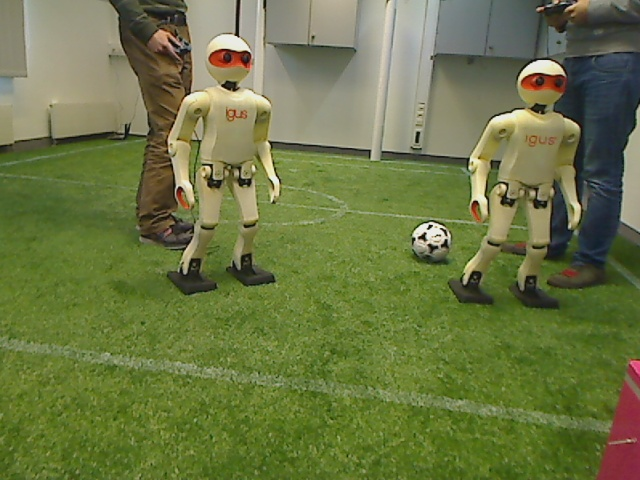ball: (407, 216, 458, 268)
robot: (454, 57, 579, 313), (166, 31, 286, 297)
